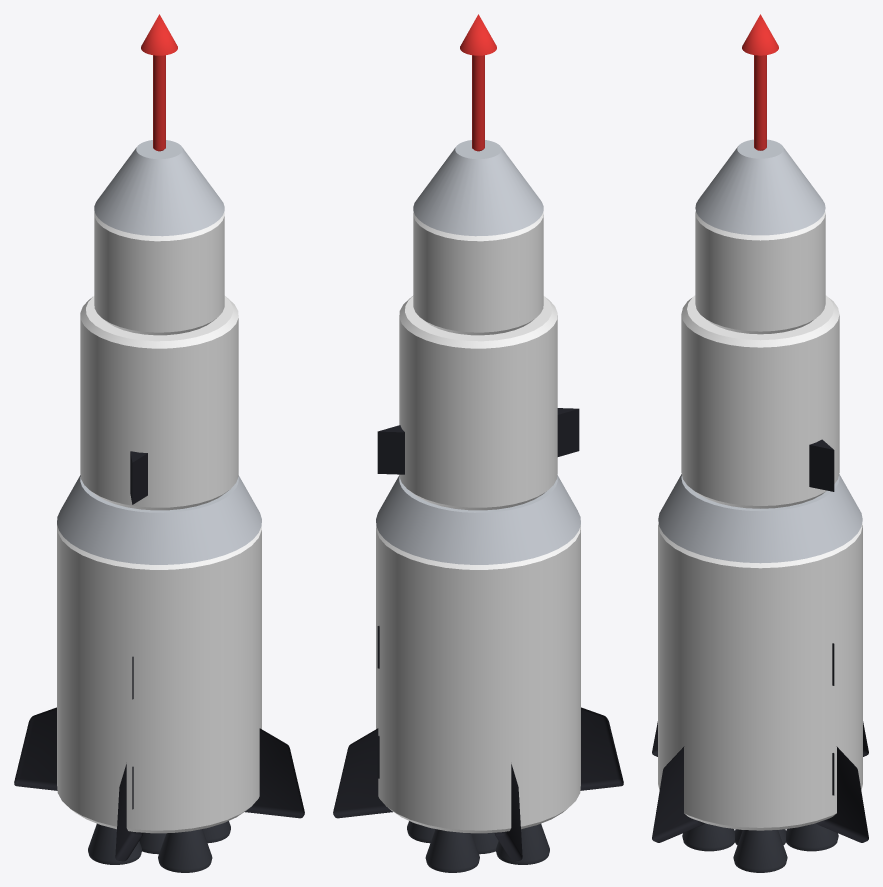
Rendered from Rocket_12_SaturnStack.fbx.
3 renders of one model, left to right at view 1: azimuth 30°, elevation 25°; view 2: azimuth 150°, elevation 25°; view 3: azimuth 270°, elevation 25°, orthographic.
Parts seen in each view (by area): view 1: R12_Stage1, R12_Stage2, R12_Stage3, R12_Interstage, R12_Capsule, R12_Fin_4, R12_Fin_2, R12_Nozzle_5, R12_Tower, R12_Nozzle_3, R12_Fin_3, R12_TowerTip (+1 smaller); view 2: R12_Stage1, R12_Stage2, R12_Stage3, R12_Interstage, R12_Capsule, R12_Fin, R12_Fin_3, R12_Roll_3, R12_Nozzle_4, R12_Tower, R12_Nozzle_3, R12_Fin_2 (+1 smaller); view 3: R12_Stage1, R12_Stage2, R12_Stage3, R12_Interstage, R12_Capsule, R12_Fin, R12_Fin_4, R12_Nozzle_2, R12_Tower, R12_Roll_3, R12_Nozzle_4, R12_Nozzle_5 (+1 smaller).
Boxes of the visible parts, x1=… form: R12_Stage1: x1=57, y1=525, x2=261, y2=833; R12_Stage2: x1=80, y1=296, x2=238, y2=510; R12_Stage3: x1=94, y1=211, x2=224, y2=335; R12_Interstage: x1=57, y1=475, x2=261, y2=564; R12_Capsule: x1=94, y1=140, x2=224, y2=236; R12_Fin_4: x1=245, y1=728, x2=304, y2=818; R12_Fin_2: x1=14, y1=707, x2=57, y2=790; R12_Nozzle_5: x1=158, y1=829, x2=212, y2=872; R12_Tower: x1=153, y1=55, x2=165, y2=151; R12_Nozzle_3: x1=88, y1=823, x2=141, y2=864; R12_Fin_3: x1=115, y1=764, x2=143, y2=861; R12_TowerTip: x1=141, y1=14, x2=177, y2=55; R12_Stage1: x1=376, y1=525, x2=580, y2=833; R12_Stage2: x1=399, y1=296, x2=557, y2=510; R12_Stage3: x1=413, y1=211, x2=543, y2=335; R12_Interstage: x1=376, y1=475, x2=580, y2=564; R12_Capsule: x1=413, y1=140, x2=543, y2=236; R12_Fin: x1=333, y1=728, x2=392, y2=818; R12_Fin_3: x1=580, y1=707, x2=623, y2=790; R12_Roll_3: x1=377, y1=408, x2=579, y2=474; R12_Nozzle_4: x1=425, y1=829, x2=479, y2=872; R12_Tower: x1=472, y1=55, x2=484, y2=151; R12_Nozzle_3: x1=496, y1=823, x2=549, y2=864; R12_Fin_2: x1=494, y1=764, x2=522, y2=861; R12_Stage1: x1=658, y1=523, x2=862, y2=830; R12_Stage2: x1=681, y1=295, x2=839, y2=508; R12_Stage3: x1=695, y1=211, x2=825, y2=334; R12_Interstage: x1=658, y1=474, x2=862, y2=563; R12_Capsule: x1=695, y1=139, x2=825, y2=235; R12_Fin: x1=816, y1=746, x2=868, y2=842; R12_Fin_4: x1=652, y1=746, x2=704, y2=842; R12_Nozzle_2: x1=733, y1=830, x2=787, y2=872; R12_Tower: x1=754, y1=55, x2=766, y2=150; R12_Roll_3: x1=809, y1=439, x2=834, y2=491; R12_Nozzle_4: x1=786, y1=823, x2=838, y2=851; R12_Nozzle_5: x1=682, y1=823, x2=734, y2=851.
Size of the model in its own units: 2.33 by 9.8 by 2.33.
